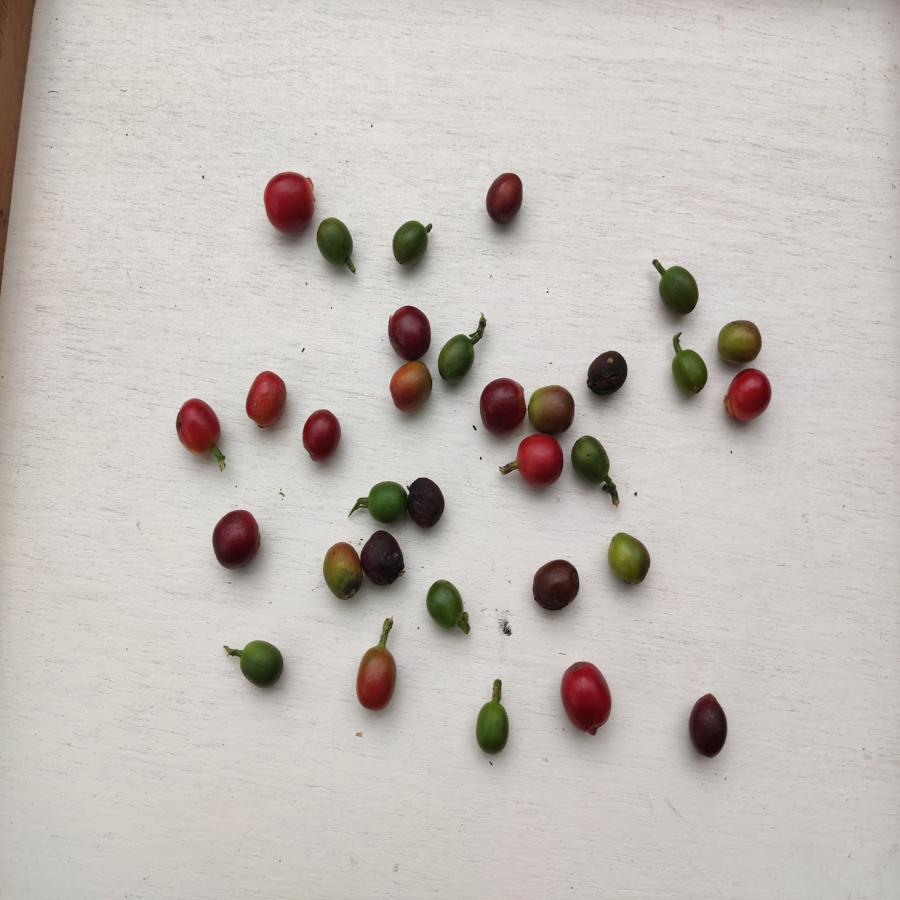Inmaduro: (235, 638, 288, 692), (389, 220, 436, 274), (658, 262, 702, 317), (313, 214, 356, 268), (424, 578, 466, 632), (571, 432, 612, 487), (436, 331, 476, 386), (475, 697, 511, 756), (668, 346, 709, 396), (368, 478, 408, 523)
Maduro: (558, 661, 612, 737), (257, 171, 316, 236), (173, 396, 220, 456), (514, 435, 565, 490), (240, 371, 287, 429), (726, 368, 773, 425), (300, 407, 343, 460)
Pinton: (352, 646, 401, 715), (601, 533, 652, 587), (319, 541, 362, 601), (387, 360, 433, 413), (527, 383, 574, 434), (715, 320, 765, 366)
Sobremaduro: (212, 509, 262, 568), (479, 377, 526, 436), (687, 693, 728, 760), (362, 529, 406, 587), (531, 560, 581, 610), (386, 306, 432, 358), (586, 346, 629, 397), (485, 172, 524, 226), (409, 476, 446, 530)
